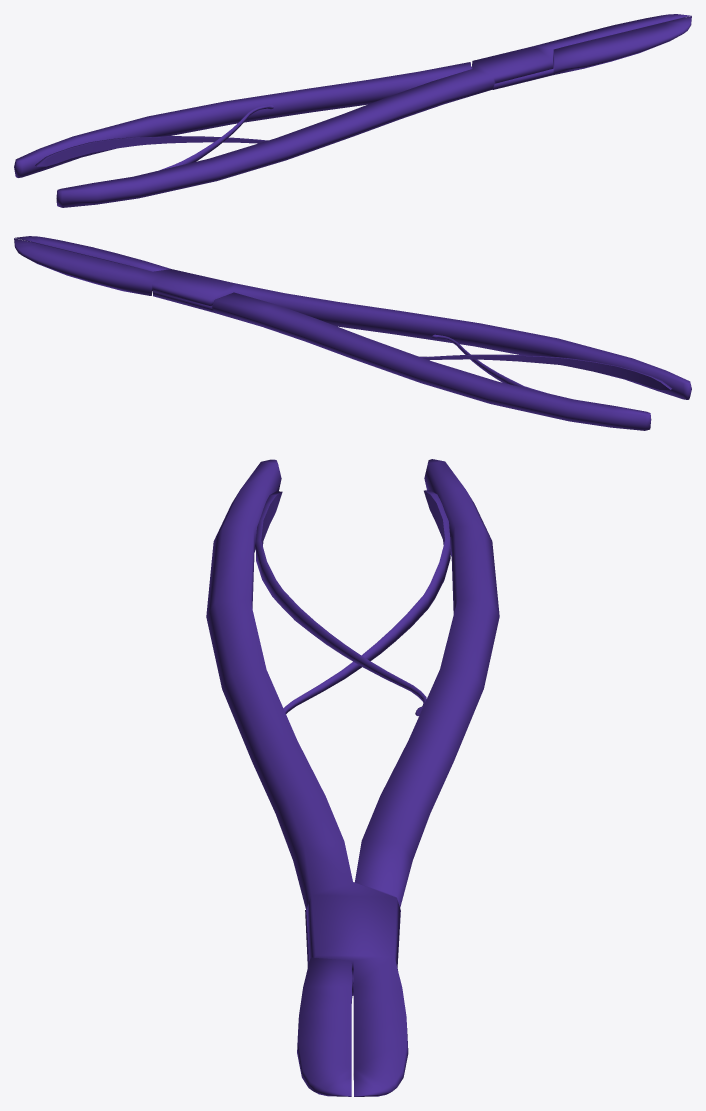
The model's file is SM_Morgue_Scissors_11.FBX.
The picture shows the model from 3 angles, top to bottom: view 1: azimuth 30°, elevation 25°; view 2: azimuth 150°, elevation 25°; view 3: azimuth 270°, elevation 25°; orthographic projection. The views are drawn at different scales.
Visible parts, largest first — view 1: Morgue_Scissors_11_element_2, Morgue_Scissors_11_element_1; view 2: Morgue_Scissors_11_element_2, Morgue_Scissors_11_element_1; view 3: Morgue_Scissors_11_element_2, Morgue_Scissors_11_element_1.
Boxes of the visible parts, box(x1,y1,x2,y2) form: Morgue_Scissors_11_element_2: box(56, 14, 691, 207); Morgue_Scissors_11_element_1: box(14, 16, 691, 177); Morgue_Scissors_11_element_2: box(14, 238, 691, 399); Morgue_Scissors_11_element_1: box(15, 236, 651, 430); Morgue_Scissors_11_element_2: box(206, 459, 426, 1096); Morgue_Scissors_11_element_1: box(283, 459, 499, 1096).
Bounding box in the file's own units: 18.18 × 0.4841 × 3.52.
